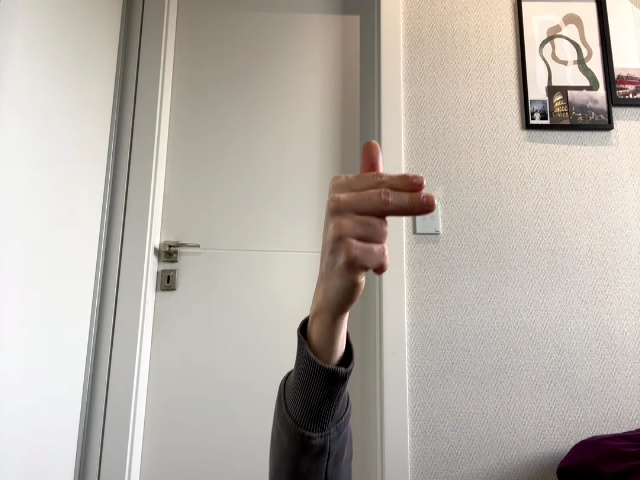N: (324, 140, 436, 280)
